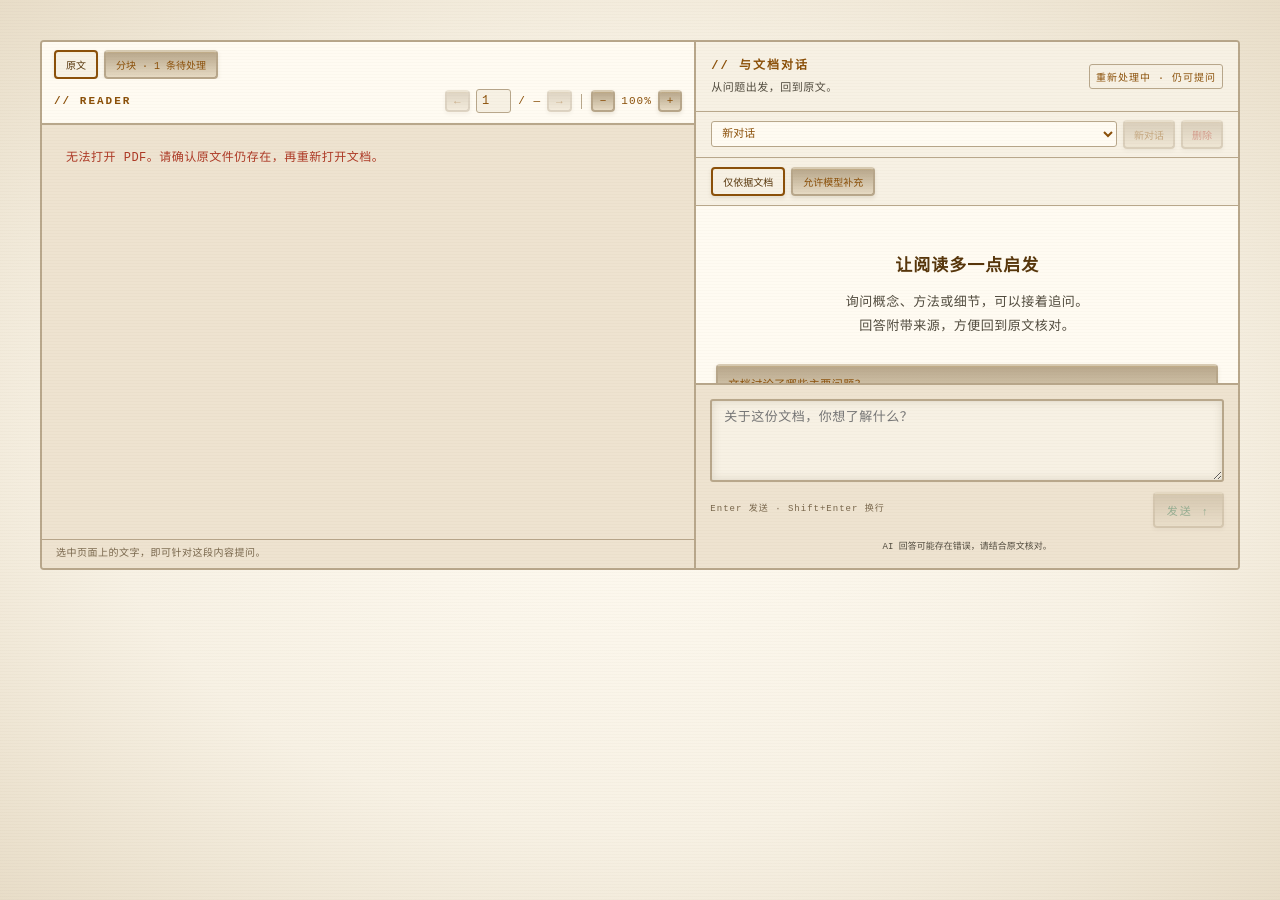
edits are disabled while the document is reprocessing
Click the tab "分块 · 1 条待处理".
click(161, 64)  # box [104,50,218,79]
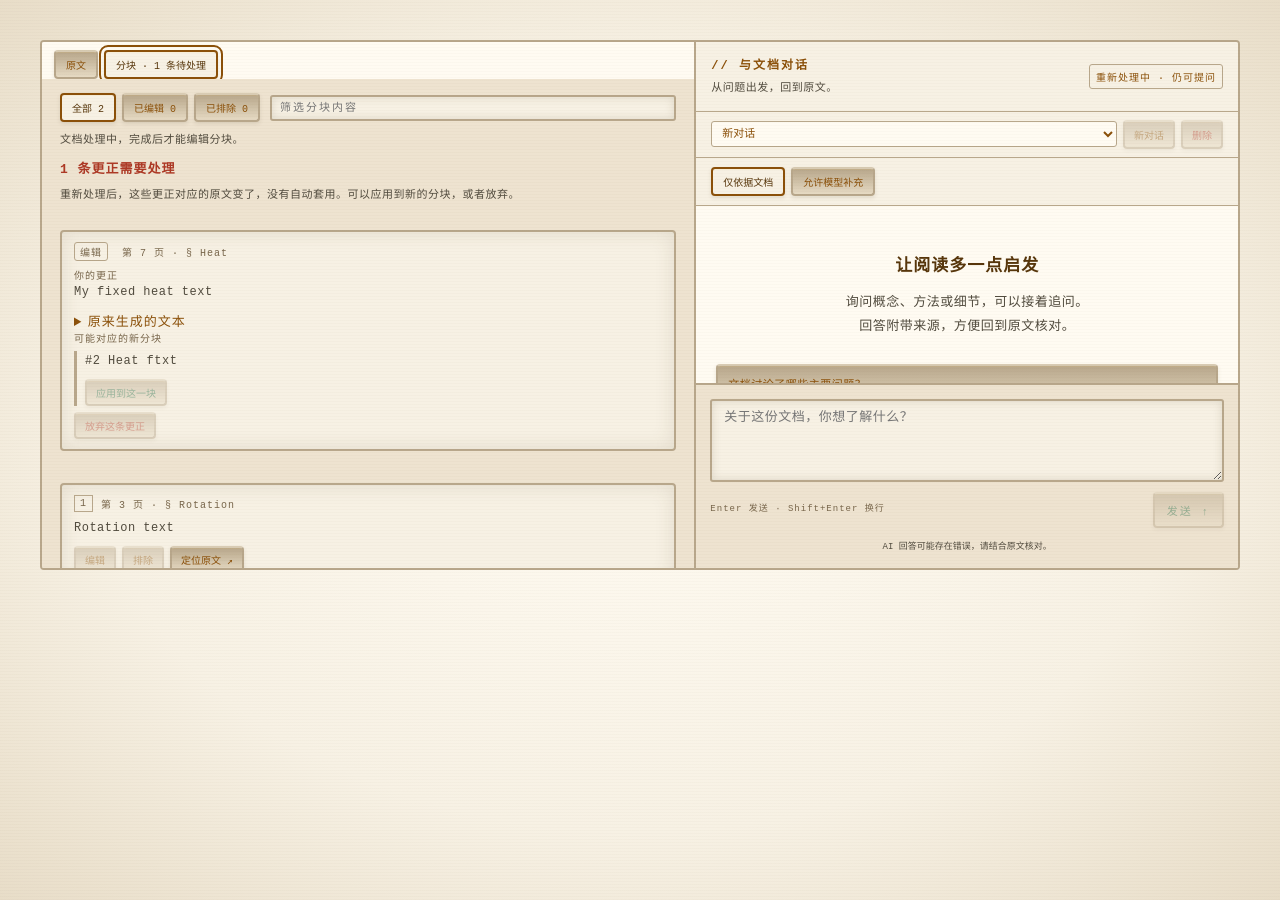
Now the text "Rotation text" is shown, box [74,521,174,535]
Now the text "文档处理中，完成后才能编辑分块。" is shown, box [60,134,244,146]
Now the button "编辑" is disabled, box [74,546,116,568]
